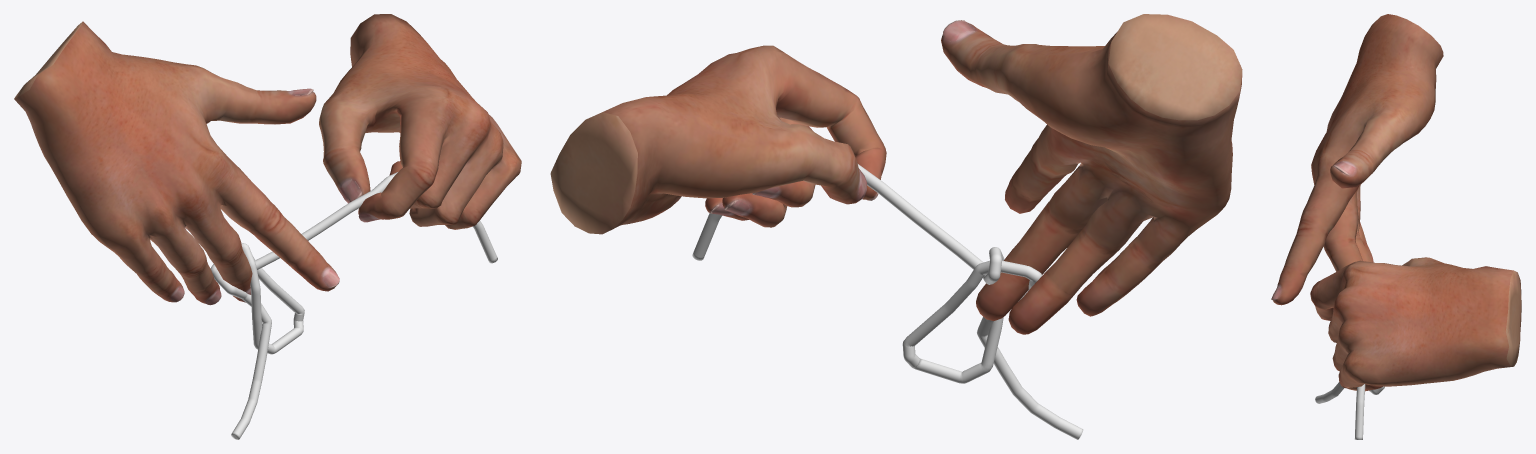
Rendered from mfk_part4_assi_pull.fbx.
3 views of the same model, side by side, from view 1: azimuth 30°, elevation 25°; view 2: azimuth 150°, elevation 25°; view 3: azimuth 270°, elevation 25° (orthographic). The views are drawn at different scales.
Parts seen in each view (by area): view 1: Hand_R, Hand_L, faden_R, faden_L; view 2: Hand_R, Hand_L, faden_R, faden_L; view 3: Hand_L, Hand_R, faden_L, faden_R.
Boxes of the visible parts, x1,y1,x2,y2 form: Hand_R: (14,21,339,305); Hand_L: (319,14,521,229); faden_R: (210,256,304,439); faden_L: (241,172,497,354); Hand_R: (941,14,1242,334); Hand_L: (550,45,886,234); faden_R: (902,260,1083,439); faden_L: (692,164,1004,383); Hand_L: (1310,257,1521,391); Hand_R: (1271,14,1443,305); faden_L: (1354,384,1365,439); faden_R: (1315,382,1384,403).
Bounding box in the file's own units: 34.72 × 27.51 × 18.27.
